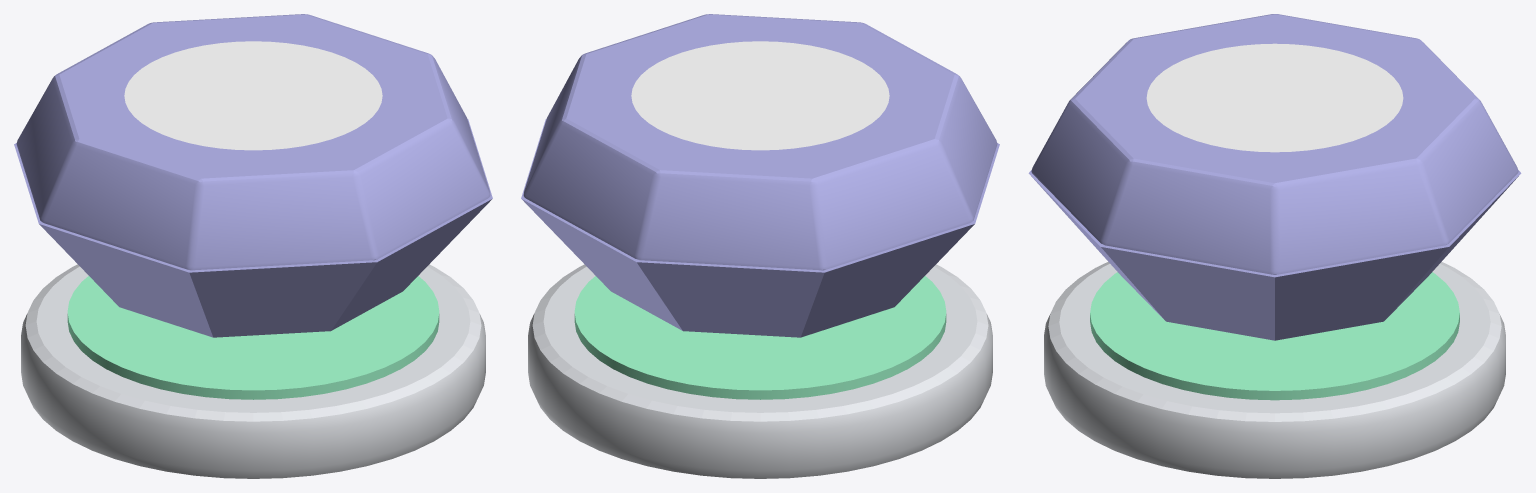
3 renders of one model, left to right at view 1: azimuth 30°, elevation 25°; view 2: azimuth 150°, elevation 25°; view 3: azimuth 270°, elevation 25°, orthographic.
Visible parts, largest first — view 1: ai_gem_up, ai_ped, ai_glow, ai_gem_low, ai_logo; view 2: ai_gem_up, ai_ped, ai_glow, ai_gem_low, ai_logo; view 3: ai_gem_up, ai_ped, ai_glow, ai_logo, ai_gem_low.
Boxes of the visible parts, x1,y1,x2,y2 form: ai_gem_up: [16, 14, 490, 270]; ai_ped: [21, 264, 485, 478]; ai_glow: [67, 276, 439, 399]; ai_gem_low: [14, 119, 492, 337]; ai_logo: [124, 41, 382, 150]; ai_gem_up: [523, 14, 997, 270]; ai_ped: [528, 264, 992, 478]; ai_glow: [574, 276, 946, 399]; ai_gem_low: [521, 119, 999, 337]; ai_logo: [631, 41, 889, 150]; ai_gem_up: [1031, 14, 1518, 274]; ai_ped: [1044, 262, 1505, 478]; ai_glow: [1090, 272, 1459, 400]; ai_logo: [1146, 43, 1403, 152]; ai_gem_low: [1028, 170, 1521, 340].
Size of the model in its own units: 0.96 by 0.6215 by 0.96.
